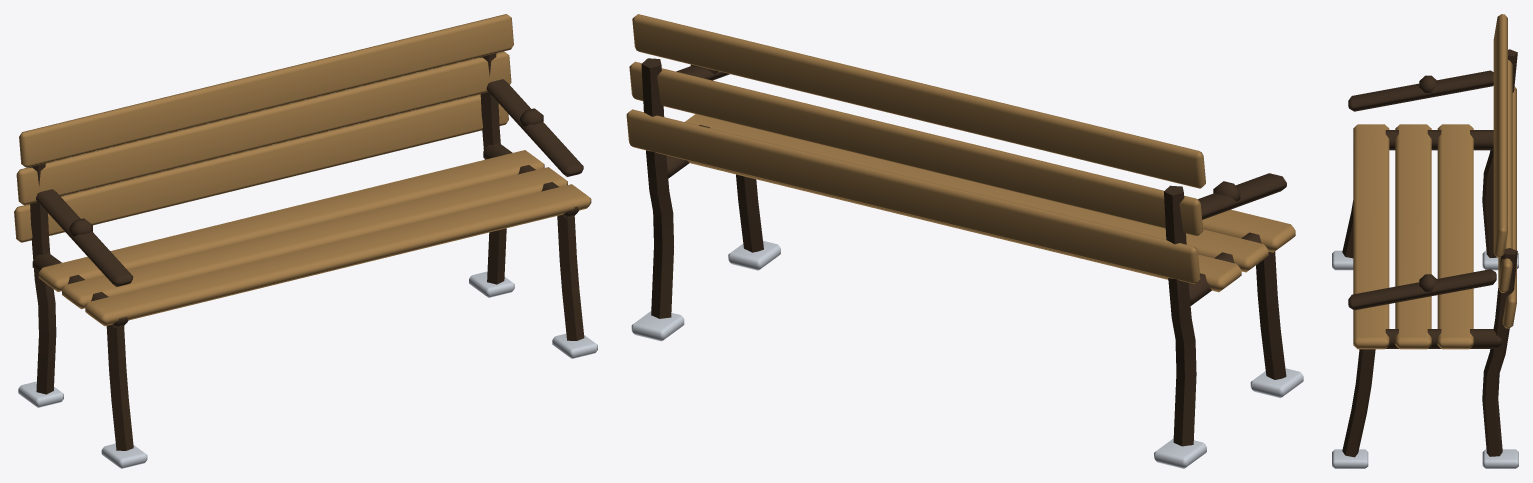
Rendered from bench_simple.glb.
3 views of the same model, side by side, from view 1: azimuth 30°, elevation 25°; view 2: azimuth 150°, elevation 25°; view 3: azimuth 270°, elevation 25° (orthographic). The views are drawn at different scales.
Parts seen in each view (by area): view 1: bench_simple; view 2: bench_simple; view 3: bench_simple.
Boxes of the visible parts, bbox=[...] form: bench_simple: bbox=[14, 14, 597, 468]; bench_simple: bbox=[626, 14, 1303, 468]; bench_simple: bbox=[1332, 14, 1518, 468].
Bounding box in the file's own units: 1.7 × 0.8927 × 0.62.
